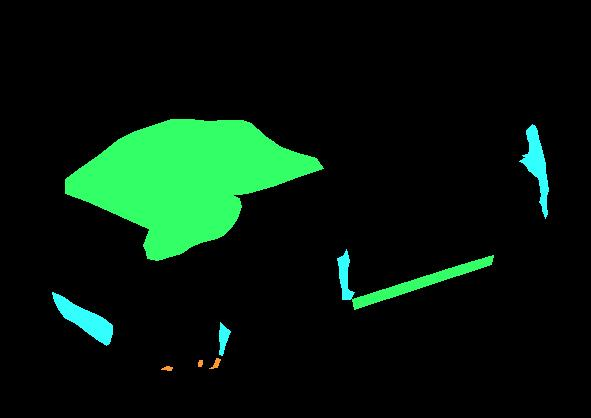Broken part: (65, 119, 323, 230), (352, 255, 493, 309), (143, 194, 241, 260)
Flaking: (52, 292, 112, 345), (519, 124, 548, 218), (337, 249, 354, 299), (219, 322, 230, 355)
Paint chip: (209, 358, 220, 368), (161, 366, 172, 370), (198, 360, 202, 366)
